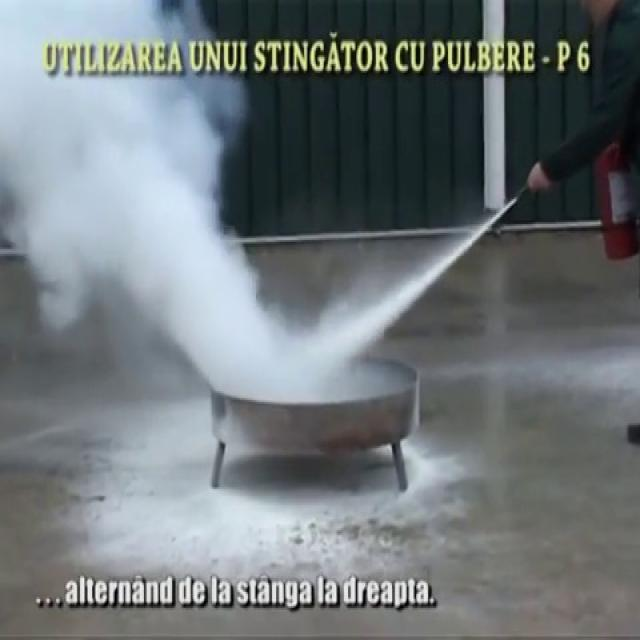Smoke: (0, 0, 337, 402)
